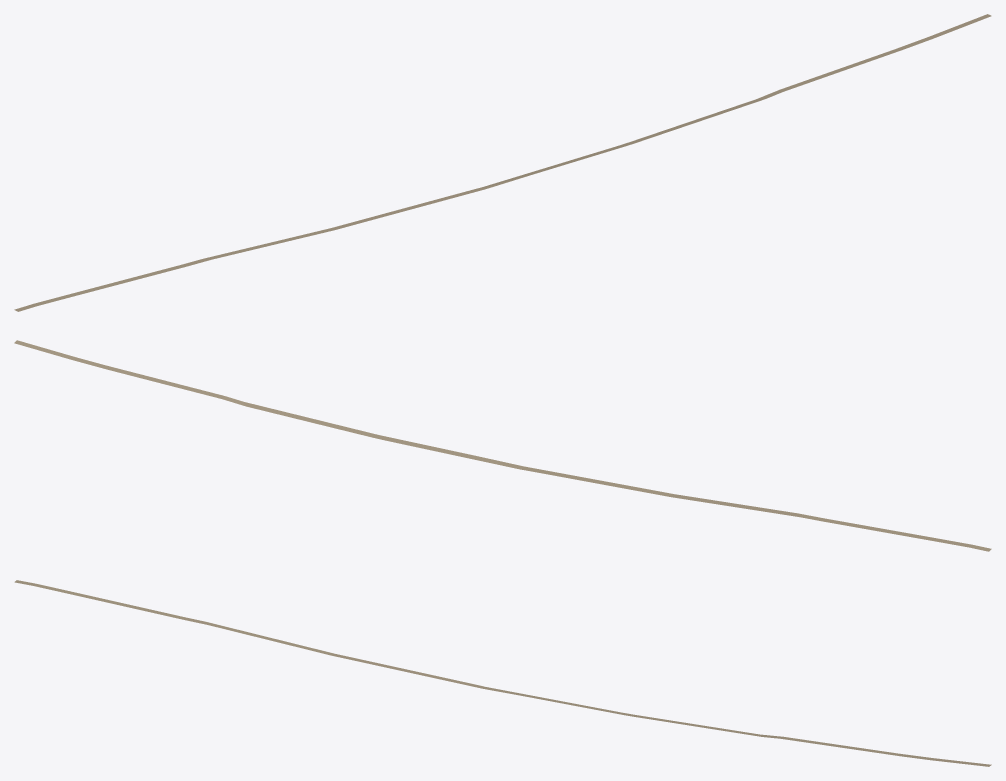
The model's file is farm_-9_0_track.glb.
3 views of the same model, one above another, from view 1: azimuth 30°, elevation 25°; view 2: azimuth 150°, elevation 25°; view 3: azimuth 330°, elevation 25° (orthographic). The views are drawn at different scales.
Visible parts, largest first — view 1: geometry_0; view 2: geometry_0; view 3: geometry_0.
Boxes of the visible parts, left/top/right/bottom form: geometry_0: left=14, top=14, right=991, bottom=311; geometry_0: left=14, top=340, right=991, bottom=551; geometry_0: left=14, top=580, right=991, bottom=766.
Bounding box in the file's own units: 522 × 13.2 × 44.22.
